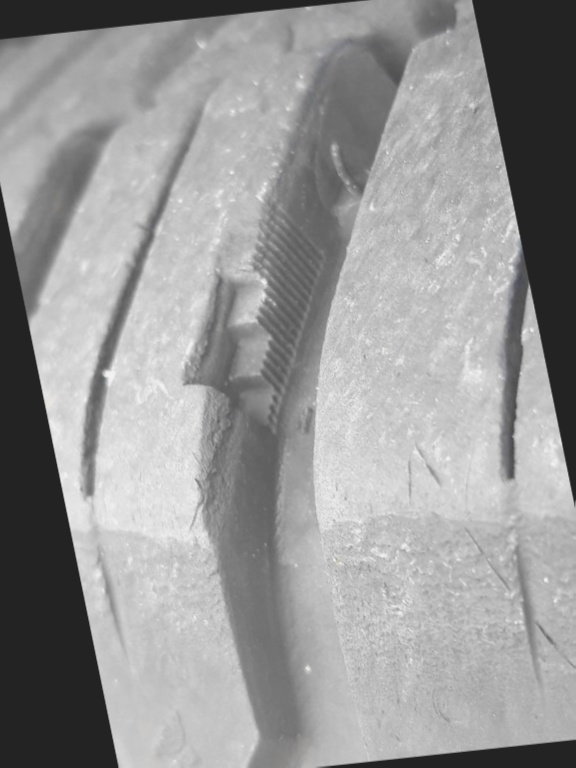temoin:80: (137, 174, 381, 456)
